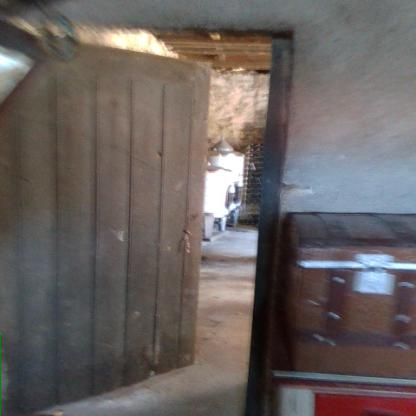semi: (0, 5, 290, 415)
